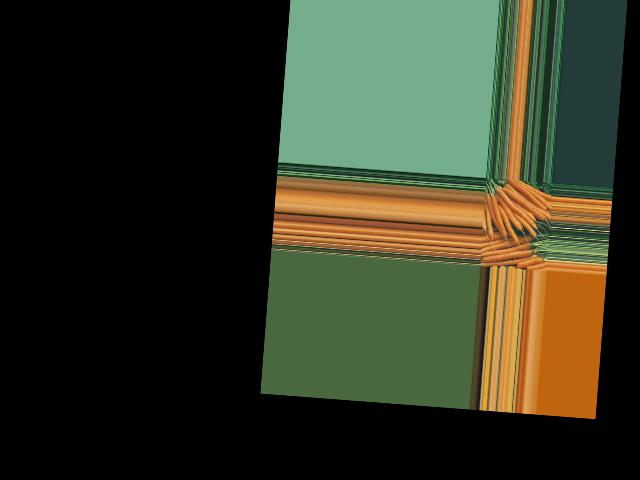carrot: (484, 194, 505, 235)
